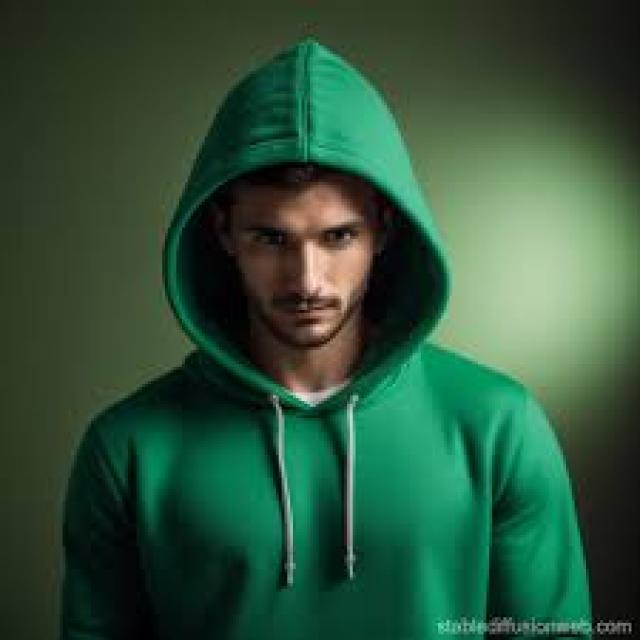4_capucha: (157, 38, 454, 416)
